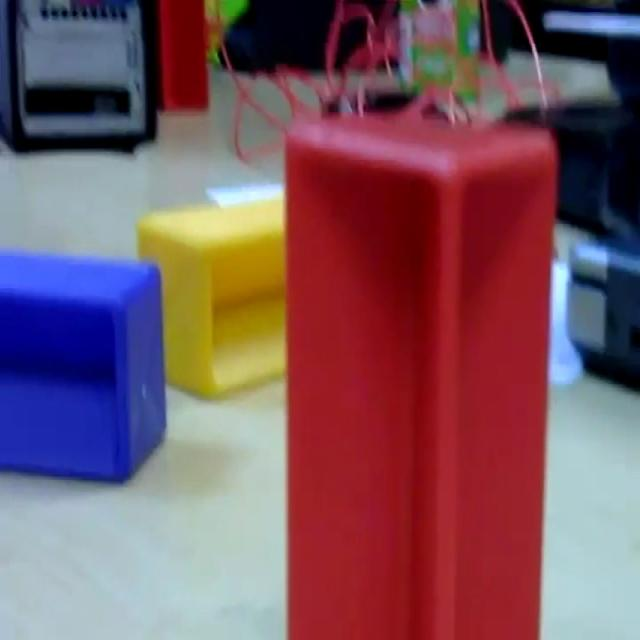blue_block: (0, 244, 167, 484)
red_block: (282, 101, 558, 636)
yellow_block: (135, 187, 287, 397)
